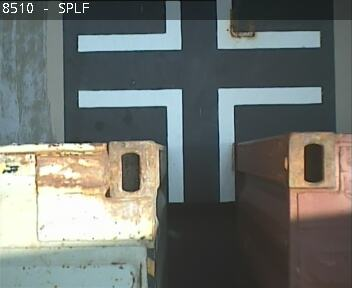groundmarker_1: (78, 85, 319, 199), (77, 1, 319, 52)
